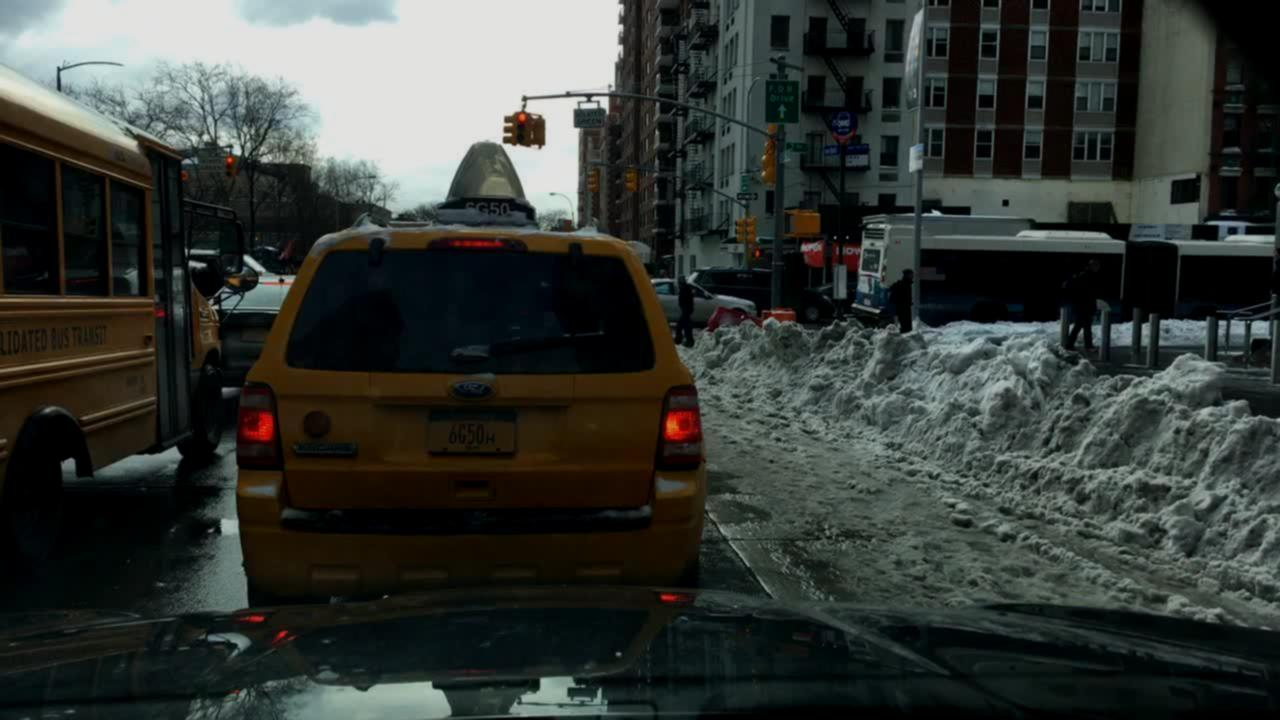ford: (447, 376, 498, 403)
